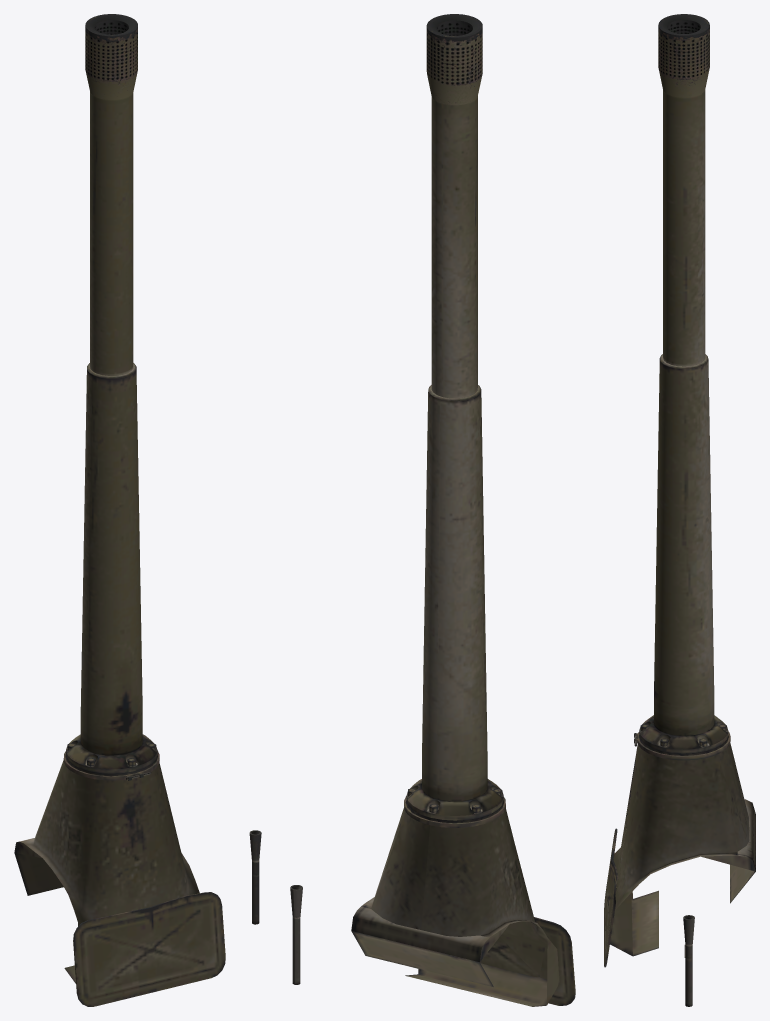
Rendered from Gun_01.glb.
3 views of the same model, side by side, from view 1: azimuth 30°, elevation 25°; view 2: azimuth 150°, elevation 25°; view 3: azimuth 270°, elevation 25° (orthographic). The views are drawn at different scales.
Parts seen in each view (by area): view 1: set_0_group_0; view 2: set_0_group_0; view 3: set_0_group_0.
Boxes of the visible parts, box(x1,y1,x2,y2) form: set_0_group_0: box(14, 14, 261, 1006); set_0_group_0: box(290, 14, 575, 1006); set_0_group_0: box(604, 14, 755, 1006).
Bounding box in the file's own units: 0.9326 × 3.7 × 0.5581.
Materials: 1 (1 with a texture image).
